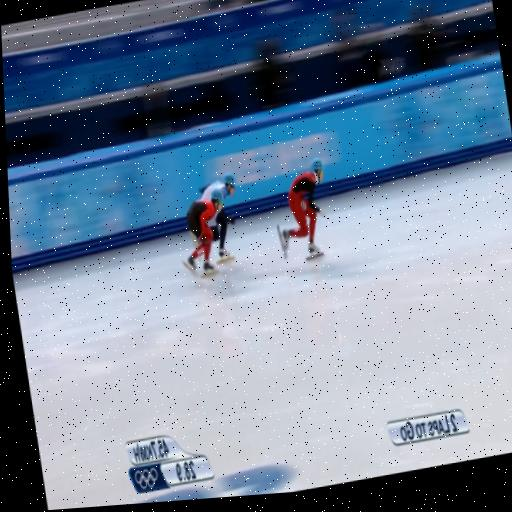Skater: (277, 158, 323, 259), (183, 190, 223, 276), (207, 209, 234, 263)
